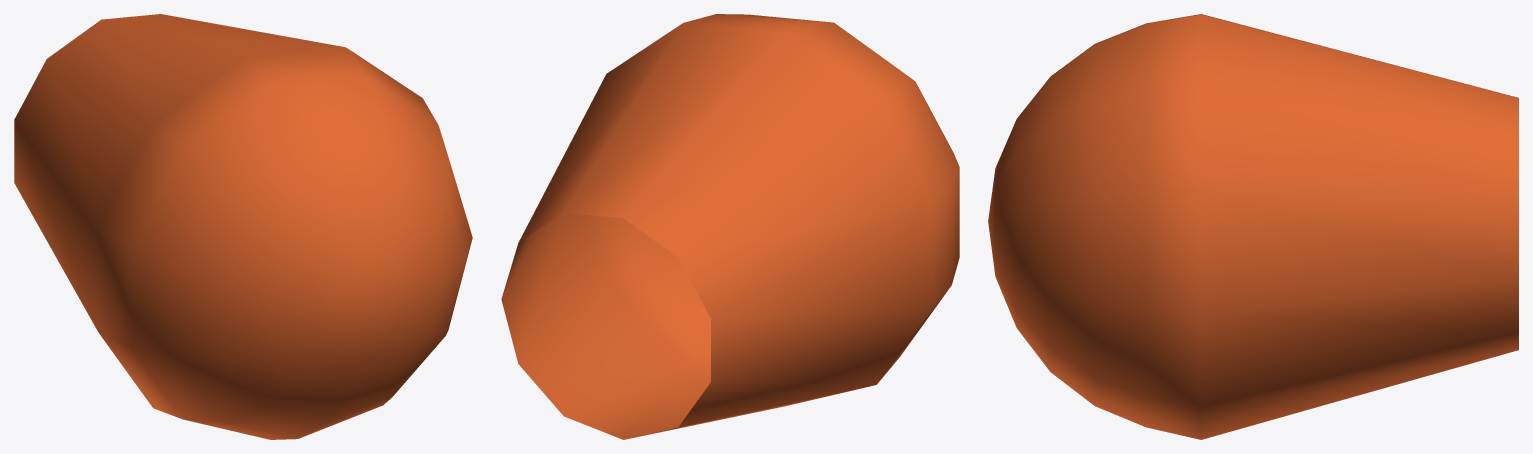
The model's file is foxtail1.obj.
The picture shows the model from 3 angles, left to right: view 1: azimuth 30°, elevation 25°; view 2: azimuth 150°, elevation 25°; view 3: azimuth 270°, elevation 25°; orthographic projection. The views are drawn at different scales.
Visible parts, largest first — view 1: tail1; view 2: tail1; view 3: tail1.
Boxes of the visible parts, <box> form: tail1: <box>14,14,472,439</box>; tail1: <box>501,14,959,439</box>; tail1: <box>988,14,1518,439</box>.
Size of the model in its own units: 0.0785 by 0.0793 by 0.0979.
Materials: 1 (1 with a texture image).
